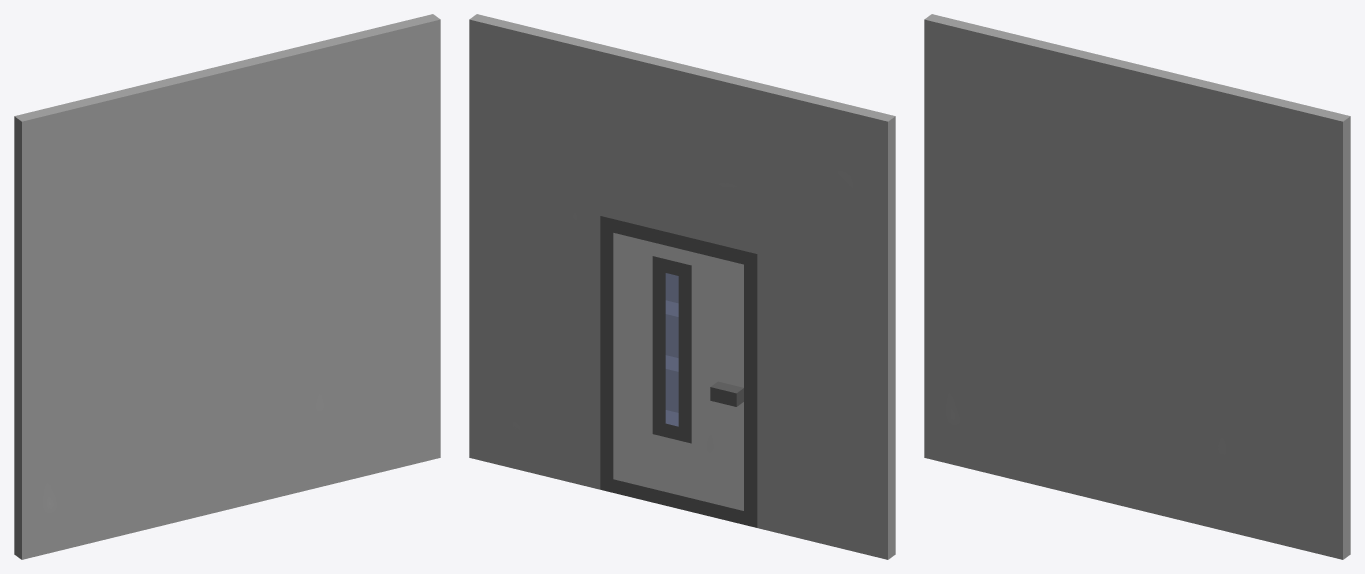
Rendered from DoorTwo.fbx.
3 views of the same model, side by side, from view 1: azimuth 30°, elevation 25°; view 2: azimuth 150°, elevation 25°; view 3: azimuth 330°, elevation 25° (orthographic).
Visible parts, largest first — view 1: ParedPuerta2; view 2: ParedPuerta2; view 3: ParedPuerta2.
Part boxes in pixels (bbox=[...]): ParedPuerta2: bbox=[14, 14, 440, 559]; ParedPuerta2: bbox=[469, 14, 895, 559]; ParedPuerta2: bbox=[924, 14, 1350, 559].
Size of the model in its own units: 38.1 by 610 by 610.
Materials: 1 (1 with a texture image).
